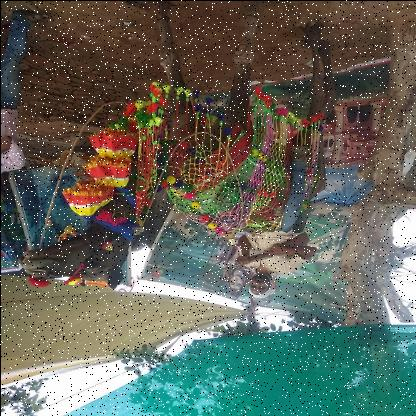rifle: (186, 230, 310, 278)
